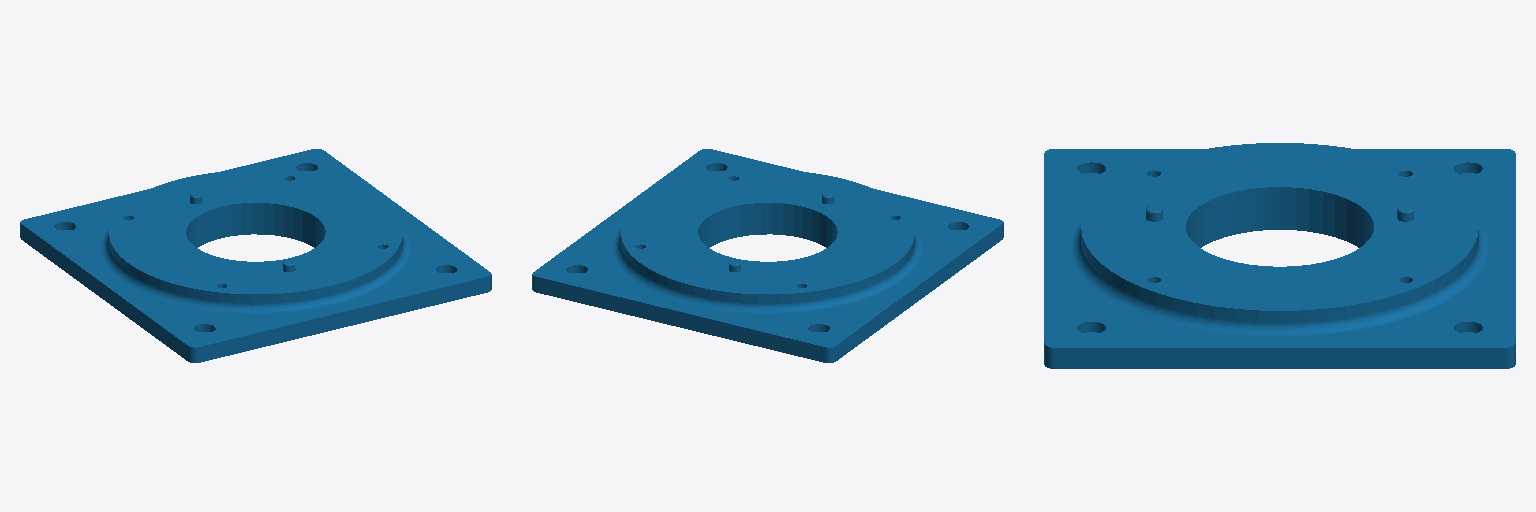
The robot description file, URDF, robot "chargepal_testbed":
<robot name="chargepal_testbed">
  
  
  
  
  
  
  
  
  
  
  
  
  
  
  <link name="world"><inertial><mass value="0.0" /><origin rpy="0 0 0" xyz="0 0 0" /><inertia ixx="0.0" ixy="0.0" ixz="0.0" iyy="0.0" iyz="0.0" izz="0.0" /></inertial></link>
  <joint name="world_to_table" type="fixed">
    <parent link="world" />
    <child link="table" />
    <origin rpy="0 0 3.14159" xyz="0 0 0" />
  </joint>
  <link name="table">
    <inertial>
      <mass value="100.0" />
      <origin rpy="0 0 0" xyz="0 0 0" />
      <inertia ixx="17.8180758727668" ixy="0.0" ixz="0.0" iyy="10.983703606516801" iyz="0.0" izz="17.769367892250003" />
    </inertial>
    <visual>
      <origin rpy="0 0 0" xyz="0 0 0" />
      <geometry>
        <mesh filename="package://chargepal_description/meshes/testbed/table.dae" />
      </geometry>
      <material name="vention_green">
        <color rgba="0.047058823529411764 0.5058823529411764 0.5411764705882353 1" />
      </material>
    </visual>
    <collision>
      <origin rpy="0.0 0.0 0.0" xyz="-0.405 -0.6075 -0.4068" />
      <geometry>
        <box size="0.81 1.215 0.8136" />
      </geometry>
    </collision>
  </link>
  <joint name="table_to_baseplate" type="fixed">
    <parent link="table" />
    <child link="base_plate" />
    <origin rpy="0 0 3.14159" xyz="-0.6975 -0.1575 0" />
  </joint>
  <link name="base_plate">
    <inertial>
      <mass value="2.0" />
      <origin rpy="0 0 0" xyz="0 0 0" />
      <inertia ixx="0.00852187159125" ixy="0.0" ixz="0.0" iyy="0.00852187159125" iyz="0.0" izz="0.01687499325" />
    </inertial>
    <visual>
      <origin rpy="0 0 0" xyz="0 0 0" />
      <geometry>
        <mesh filename="package://chargepal_description/meshes/testbed/base_plate_ur10e.dae" />
      </geometry>
      <material name="vention_blue">
        <color rgba="0.12549019607843137 0.47058823529411764 0.6666666666666666 1" />
      </material>
    </visual>
    <collision>
      <origin rpy="0.0 0.0 0.0" xyz="0.0 0.0 0.01125" />
      <geometry>
        <box size="0.225 0.225 0.0225" />
      </geometry>
    </collision>
  </link>
  <joint name="baseplate_to_arm" type="fixed">
    <parent link="base_plate" />
    <child link="arm_base" />
    <origin rpy="0 0 0" xyz="0 0 0.0225" />
  </joint>
  <link name="arm_base">
    <inertial>
      <mass value="0.0" />
      <origin rpy="0 0 0" xyz="0 0 0" />
      <inertia ixx="0.0" ixy="0.0" ixz="0.0" iyy="0.0" iyz="0.0" izz="0.0" />
    </inertial>
  </link>
  
  <gazebo reference="base_plate">
    <material>Gazebo/Blue</material>
  </gazebo>
  <gazebo reference="table">
    <material>Gazebo/Green</material>
  </gazebo>
  
  <joint name="testbed_to_ur10e" type="fixed">
    <parent link="arm_base" />
    <child link="base_link" />
    <origin rpy="0.0 0.0 -1.570795" xyz="0.0 0.0 0.0" />
  </joint>
  
  
  <transmission name="shoulder_pan_trans">
    <type>transmission_interface/SimpleTransmission</type>
    <joint name="shoulder_pan_joint">
      <hardwareInterface>hardware_interface/VelocityJointInterface</hardwareInterface>
    </joint>
    <actuator name="shoulder_pan_motor">
      <mechanicalReduction>1</mechanicalReduction>
    </actuator>
  </transmission>
  <transmission name="shoulder_lift_trans">
    <type>transmission_interface/SimpleTransmission</type>
    <joint name="shoulder_lift_joint">
      <hardwareInterface>hardware_interface/VelocityJointInterface</hardwareInterface>
    </joint>
    <actuator name="shoulder_lift_motor">
      <mechanicalReduction>1</mechanicalReduction>
    </actuator>
  </transmission>
  <transmission name="elbow_trans">
    <type>transmission_interface/SimpleTransmission</type>
    <joint name="elbow_joint">
      <hardwareInterface>hardware_interface/VelocityJointInterface</hardwareInterface>
    </joint>
    <actuator name="elbow_motor">
      <mechanicalReduction>1</mechanicalReduction>
    </actuator>
  </transmission>
  <transmission name="wrist_1_trans">
    <type>transmission_interface/SimpleTransmission</type>
    <joint name="wrist_1_joint">
      <hardwareInterface>hardware_interface/VelocityJointInterface</hardwareInterface>
    </joint>
    <actuator name="wrist_1_motor">
      <mechanicalReduction>1</mechanicalReduction>
    </actuator>
  </transmission>
  <transmission name="wrist_2_trans">
    <type>transmission_interface/SimpleTransmission</type>
    <joint name="wrist_2_joint">
      <hardwareInterface>hardware_interface/VelocityJointInterface</hardwareInterface>
    </joint>
    <actuator name="wrist_2_motor">
      <mechanicalReduction>1</mechanicalReduction>
    </actuator>
  </transmission>
  <transmission name="wrist_3_trans">
    <type>transmission_interface/SimpleTransmission</type>
    <joint name="wrist_3_joint">
      <hardwareInterface>hardware_interface/VelocityJointInterface</hardwareInterface>
    </joint>
    <actuator name="wrist_3_motor">
      <mechanicalReduction>1</mechanicalReduction>
    </actuator>
  </transmission>
  
  <link name="base_link"><inertial><mass value="0.0" /><origin rpy="0 0 0" xyz="0 0 0" /><inertia ixx="0.0" ixy="0.0" ixz="0.0" iyy="0.0" iyz="0.0" izz="0.0" /></inertial></link>
  <link name="base_link_inertia">
    <visual>
      <origin rpy="0 0 3.141592653589793" xyz="0 0 0" />
      <geometry>
        <mesh filename="package://ur_description/meshes/ur10e/visual/base.dae" />
      </geometry>
      <material name="LightGrey">
        <color rgba="0.7 0.7 0.7 1.0" />
      </material>
    </visual>
    <collision>
      <origin rpy="0 0 3.141592653589793" xyz="0 0 0" />
      <geometry>
        <mesh filename="package://ur_description/meshes/ur10e/collision/base.stl" />
      </geometry>
    </collision>
    <inertial>
      <mass value="4.0" />
      <origin rpy="0 0 0" xyz="0 0 0" />
      <inertia ixx="0.0061063308908" ixy="0.0" ixz="0.0" iyy="0.0061063308908" iyz="0.0" izz="0.01125" />
    </inertial>
  </link>
  <link name="shoulder_link">
    <visual>
      <origin rpy="0 0 3.141592653589793" xyz="0 0 0" />
      <geometry>
        <mesh filename="package://ur_description/meshes/ur10e/visual/shoulder.dae" />
      </geometry>
      <material name="LightGrey">
        <color rgba="0.7 0.7 0.7 1.0" />
      </material>
    </visual>
    <collision>
      <origin rpy="0 0 3.141592653589793" xyz="0 0 0" />
      <geometry>
        <mesh filename="package://ur_description/meshes/ur10e/collision/shoulder.stl" />
      </geometry>
    </collision>
    <inertial>
      <mass value="7.778" />
      <origin rpy="0 0 0" xyz="0 0 0" />
      <inertia ixx="0.03147431257693659" ixy="0.0" ixz="0.0" iyy="0.03147431257693659" iyz="0.0" izz="0.021875624999999996" />
    </inertial>
  </link>
  <link name="upper_arm_link">
    <visual>
      <origin rpy="1.5707963267948966 0 -1.5707963267948966" xyz="0 0 0.1762" />
      <geometry>
        <mesh filename="package://ur_description/meshes/ur10e/visual/upperarm.dae" />
      </geometry>
      <material name="LightGrey">
        <color rgba="0.7 0.7 0.7 1.0" />
      </material>
    </visual>
    <collision>
      <origin rpy="1.5707963267948966 0 -1.5707963267948966" xyz="0 0 0.1762" />
      <geometry>
        <mesh filename="package://ur_description/meshes/ur10e/collision/upperarm.stl" />
      </geometry>
    </collision>
    <inertial>
      <mass value="12.93" />
      <origin rpy="0 1.5707963267948966 0" xyz="-0.306 0.0 0.175" />
      <inertia ixx="0.42175380379841093" ixy="0.0" ixz="0.0" iyy="0.42175380379841093" iyz="0.0" izz="0.03636562499999999" />
    </inertial>
  </link>
  <link name="forearm_link">
    <visual>
      <origin rpy="1.5707963267948966 0 -1.5707963267948966" xyz="0 0 0.0393" />
      <geometry>
        <mesh filename="package://ur_description/meshes/ur10e/visual/forearm.dae" />
      </geometry>
      <material name="LightGrey">
        <color rgba="0.7 0.7 0.7 1.0" />
      </material>
    </visual>
    <collision>
      <origin rpy="1.5707963267948966 0 -1.5707963267948966" xyz="0 0 0.0393" />
      <geometry>
        <mesh filename="package://ur_description/meshes/ur10e/collision/forearm.stl" />
      </geometry>
    </collision>
    <inertial>
      <mass value="3.87" />
      <origin rpy="0 1.5707963267948966 0" xyz="-0.285775 0.0 0.0393" />
      <inertia ixx="0.11079302548902206" ixy="0.0" ixz="0.0" iyy="0.11079302548902206" iyz="0.0" izz="0.010884375" />
    </inertial>
  </link>
  <link name="wrist_1_link">
    <visual>
      
      <origin rpy="1.5707963267948966 0 0" xyz="0 0 -0.135" />
      <geometry>
        <mesh filename="package://ur_description/meshes/ur10e/visual/wrist1.dae" />
      </geometry>
      <material name="LightGrey">
        <color rgba="0.7 0.7 0.7 1.0" />
      </material>
    </visual>
    <collision>
      <origin rpy="1.5707963267948966 0 0" xyz="0 0 -0.135" />
      <geometry>
        <mesh filename="package://ur_description/meshes/ur10e/collision/wrist1.stl" />
      </geometry>
    </collision>
    <inertial>
      <mass value="1.96" />
      <origin rpy="0 0 0" xyz="0 0 0" />
      <inertia ixx="0.005108247956699999" ixy="0.0" ixz="0.0" iyy="0.005108247956699999" iyz="0.0" izz="0.005512499999999999" />
    </inertial>
  </link>
  <link name="wrist_2_link">
    <visual>
      <origin rpy="0 0 0" xyz="0 0 -0.12" />
      <geometry>
        <mesh filename="package://ur_description/meshes/ur10e/visual/wrist2.dae" />
      </geometry>
      <material name="LightGrey">
        <color rgba="0.7 0.7 0.7 1.0" />
      </material>
    </visual>
    <collision>
      <origin rpy="0 0 0" xyz="0 0 -0.12" />
      <geometry>
        <mesh filename="package://ur_description/meshes/ur10e/collision/wrist2.stl" />
      </geometry>
    </collision>
    <inertial>
      <mass value="1.96" />
      <origin rpy="0 0 0" xyz="0 0 0" />
      <inertia ixx="0.005108247956699999" ixy="0.0" ixz="0.0" iyy="0.005108247956699999" iyz="0.0" izz="0.005512499999999999" />
    </inertial>
  </link>
  <link name="wrist_3_link">
    <visual>
      <origin rpy="1.5707963267948966 0 0" xyz="0 0 -0.1168" />
      <geometry>
        <mesh filename="package://ur_description/meshes/ur10e/visual/wrist3.dae" />
      </geometry>
      <material name="LightGrey">
        <color rgba="0.7 0.7 0.7 1.0" />
      </material>
    </visual>
    <collision>
      <origin rpy="1.5707963267948966 0 0" xyz="0 0 -0.1168" />
      <geometry>
        <mesh filename="package://ur_description/meshes/ur10e/collision/wrist3.stl" />
      </geometry>
    </collision>
    <inertial>
      <mass value="0.202" />
      <origin rpy="0 0 0" xyz="0.0 0.0 -0.025" />
      <inertia ixx="0.00014434577559500002" ixy="0.0" ixz="0.0" iyy="0.00014434577559500002" iyz="0.0" izz="0.00020452500000000002" />
    </inertial>
  </link>
  
  <joint name="base_link-base_link_inertia" type="fixed">
    <parent link="base_link" />
    <child link="base_link_inertia" />
    
    <origin rpy="0 0 3.141592653589793" xyz="0 0 0" />
  </joint>
  <joint name="shoulder_pan_joint" type="revolute">
    <parent link="base_link_inertia" />
    <child link="shoulder_link" />
    <origin rpy="0 0 0" xyz="0 0 0.1807" />
    <axis xyz="0 0 1" />
    <limit effort="330.0" lower="-6.283185307179586" upper="6.283185307179586" velocity="2.0943951023931953" />
    <dynamics damping="0" friction="0" />
  </joint>
  <joint name="shoulder_lift_joint" type="revolute">
    <parent link="shoulder_link" />
    <child link="upper_arm_link" />
    <origin rpy="1.570796327 0 0" xyz="0 0 0" />
    <axis xyz="0 0 1" />
    <limit effort="330.0" lower="-6.283185307179586" upper="6.283185307179586" velocity="2.0943951023931953" />
    <dynamics damping="0" friction="0" />
  </joint>
  <joint name="elbow_joint" type="revolute">
    <parent link="upper_arm_link" />
    <child link="forearm_link" />
    <origin rpy="0 0 0" xyz="-0.6127 0 0" />
    <axis xyz="0 0 1" />
    <limit effort="150.0" lower="-3.141592653589793" upper="3.141592653589793" velocity="3.141592653589793" />
    <dynamics damping="0" friction="0" />
  </joint>
  <joint name="wrist_1_joint" type="revolute">
    <parent link="forearm_link" />
    <child link="wrist_1_link" />
    <origin rpy="0 0 0" xyz="-0.57155 0 0.17415" />
    <axis xyz="0 0 1" />
    <limit effort="56.0" lower="-6.283185307179586" upper="6.283185307179586" velocity="3.141592653589793" />
    <dynamics damping="0" friction="0" />
  </joint>
  <joint name="wrist_2_joint" type="revolute">
    <parent link="wrist_1_link" />
    <child link="wrist_2_link" />
    <origin rpy="1.570796327 0 0" xyz="0 -0.11985 -2.458164590756244e-11" />
    <axis xyz="0 0 1" />
    <limit effort="56.0" lower="-6.283185307179586" upper="6.283185307179586" velocity="3.141592653589793" />
    <dynamics damping="0" friction="0" />
  </joint>
  <joint name="wrist_3_joint" type="revolute">
    <parent link="wrist_2_link" />
    <child link="wrist_3_link" />
    <origin rpy="1.570796326589793 3.141592653589793 3.141592653589793" xyz="0 0.11655 -2.390480459346185e-11" />
    <axis xyz="0 0 1" />
    <limit effort="56.0" lower="-6.283185307179586" upper="6.283185307179586" velocity="3.141592653589793" />
    <dynamics damping="0" friction="0" />
  </joint>
  
  <link name="base"><inertial><mass value="0.0" /><origin rpy="0 0 0" xyz="0 0 0" /><inertia ixx="0.0" ixy="0.0" ixz="0.0" iyy="0.0" iyz="0.0" izz="0.0" /></inertial></link>
  <joint name="base_link-base_fixed_joint" type="fixed">
    
    <origin rpy="0 0 3.141592653589793" xyz="0 0 0" />
    <parent link="base_link" />
    <child link="base" />
  </joint>
  
  <link name="flange"><inertial><mass value="0.0" /><origin rpy="0 0 0" xyz="0 0 0" /><inertia ixx="0.0" ixy="0.0" ixz="0.0" iyy="0.0" iyz="0.0" izz="0.0" /></inertial></link>
  <joint name="wrist_3-flange" type="fixed">
    <parent link="wrist_3_link" />
    <child link="flange" />
    <origin rpy="0 -1.5707963267948966 -1.5707963267948966" xyz="0 0 0" />
  </joint>
  
  <link name="tool0"><inertial><mass value="0.0" /><origin rpy="0 0 0" xyz="0 0 0" /><inertia ixx="0.0" ixy="0.0" ixz="0.0" iyy="0.0" iyz="0.0" izz="0.0" /></inertial></link>
  <joint name="flange-tool0" type="fixed">
    
    <origin rpy="1.5707963267948966 0 1.5707963267948966" xyz="0 0 0" />
    <parent link="flange" />
    <child link="tool0" />
  </joint>
  
  <gazebo reference="shoulder_link">
    <selfCollide>true</selfCollide>
  </gazebo>
  <gazebo reference="upper_arm_link">
    <selfCollide>true</selfCollide>
  </gazebo>
  <gazebo reference="forearm_link">
    <selfCollide>true</selfCollide>
  </gazebo>
  <gazebo reference="wrist_1_link">
    <selfCollide>true</selfCollide>
  </gazebo>
  <gazebo reference="wrist_3_link">
    <selfCollide>true</selfCollide>
  </gazebo>
  <gazebo reference="wrist_2_link">
    <selfCollide>true</selfCollide>
  </gazebo>
  <gazebo reference="ee_link">
    <selfCollide>true</selfCollide>
  </gazebo>
  <link name="ft_sensor_mounting">
    <inertial>
      <origin rpy="0 0 0" xyz="-9.4473E-05 0.00063177 0.010132" />
      <mass value="0.14931" />
      <inertia ixx="4.8806E-05" ixy="3.2223E-08" ixz="-1.0415E-07" iyy="5.5473E-05" iyz="1.3709E-07" izz="8.9696E-05" />
    </inertial>
    <visual>
      <origin rpy="0 0 0" xyz="0 0 0" />
      <geometry>
        <mesh filename="package://rokubimini_description/meshes/BFT_SENS_M8/mounting.STL" />
      </geometry>
      <material name="">
        <color rgba="0.6902 0.61176 0.52941 1" />
      </material>
    </visual>
    <collision>
      <origin rpy="0 0 0" xyz="0 0 0.011" />
      <geometry>
        <cylinder length="0.028" radius="0.035" />
      </geometry>
    </collision>
    <collision>
      <origin rpy="1.57 0 0" xyz="0 0.051 0.0115" />
      <geometry>
        <cylinder length="0.032" radius="0.0065" />
      </geometry>
    </collision>
    <collision>
      <origin rpy="0 0 0" xyz="0 0 0.03" />
      <geometry>
        <cylinder length="0.01" radius="0.0315" />
      </geometry>
    </collision>
  </link>
  <link name="ft_sensor_imu">
    <inertial>
      <origin rpy="0 0 0" xyz="-7.28164825396643E-05 1.54951151759942E-05 -0.00279059266096084" />
      <mass value="0.00841533584597687" />
      <inertia ixx="4.36835040253875E-07" ixy="-6.98609475825204E-11" ixz="-6.08397676352913E-15" iyy="4.41035649008913E-07" iyz="1.1033148379698E-11" izz="8.74962095262403E-07" />
    </inertial>
  </link>
  <joint name="mounting_to_imu" type="fixed">
    <origin rpy="0 0 0" xyz="0 0 0.0093" />
    <parent link="ft_sensor_mounting" />
    <child link="ft_sensor_imu" />
    <axis xyz="0 0 0" />
  </joint>
  <link name="ft_sensor_wrench">
    <inertial>
      <origin rpy="0 0 0" xyz="-1.9753E-07 0.00017443 -0.0070758" />
      <mass value="0.081117" />
      <inertia ixx="2.1858E-05" ixy="-1.9153E-12" ixz="3.7592E-11" iyy="2.2215E-05" iyz="-4.9937E-08" izz="4.0048E-05" />
    </inertial>
  </link>
  <joint name="mounting_to_wrench" type="fixed">
    <origin rpy="0 0 0" xyz="0 0 0.035" />
    <parent link="ft_sensor_mounting" />
    <child link="ft_sensor_wrench" />
    <axis xyz="0 0 0" />
  </joint>
  <link name="ft_sensor_mech1">
    <inertial><mass value="0.0" /><origin rpy="0 0 0" xyz="0 0 0" /><inertia ixx="0.0" ixy="0.0" ixz="0.0" iyy="0.0" iyz="0.0" izz="0.0" /></inertial></link>
  <joint name="mounting_to_mech1" type="fixed">
    <origin rpy="1.5625 0 -1.5708" xyz="-0.032879 0 0.0105" />
    <parent link="ft_sensor_mounting" />
    <child link="ft_sensor_mech1" />
    <axis xyz="0 0 0" />
  </joint>
  <link name="ft_sensor_mech2">
    <inertial><mass value="0.0" /><origin rpy="0 0 0" xyz="0 0 0" /><inertia ixx="0.0" ixy="0.0" ixz="0.0" iyy="0.0" iyz="0.0" izz="0.0" /></inertial></link>
  <joint name="mounting_to_mech2" type="fixed">
    <origin rpy="1.5708 0 0" xyz="0 -0.032879 0.0105" />
    <parent link="ft_sensor_mounting" />
    <child link="ft_sensor_mech2" />
    <axis xyz="0 0 0" />
  </joint>
  <link name="ft_sensor_mech3">
    <inertial><mass value="0.0" /><origin rpy="0 0 0" xyz="0 0 0" /><inertia ixx="0.0" ixy="0.0" ixz="0.0" iyy="0.0" iyz="0.0" izz="0.0" /></inertial></link>
  <joint name="mounting_to_mech3" type="fixed">
    <origin rpy="1.5708 0 1.5708" xyz="0.032879 0 0.0105" />
    <parent link="ft_sensor_mounting" />
    <child link="ft_sensor_mech3" />
    <axis xyz="0 0 0" />
  </joint>
  <joint name="ur_to_sensor" type="fixed">
    <parent link="tool0" />
    <child link="ft_sensor_mounting" />
    <origin rpy="0.0 0.0 0.0" xyz="0.0 0.0 0.0" />
  </joint>
  
  
  
  
  
  
  
  
  
  <joint name="handle_joint" type="fixed">
    <parent link="ft_sensor_wrench" />
    <child link="plug_mounting" />
    <origin rpy="0 0 0" xyz="0.0 0.0 0.0" />
  </joint>
  <link name="plug_mounting">
    <visual>
      <origin rpy="1.5707963267948966 0 1.5707963267948966" xyz="0 0 0" />
      <geometry>
        <mesh filename="package://chargepal_tools/plugs/meshes/visual/ccs_type2.obj" />
      </geometry>
      <material name="field_green">
        <color rgba="0.3686274509803922 0.7450980392156863 0.49019607843137253 1" />
      </material>
    </visual>
    <collision>
      <origin rpy="1.5707963267948966 0 1.5707963267948966" xyz="0 0 0" />
      <geometry>
        <mesh filename="package://chargepal_tools/plugs/meshes/collision/ccs_type2_handle.obj" />
      </geometry>
    </collision>
    <collision>
      <origin rpy="1.5707963267948966 0 1.5707963267948966" xyz="0 0 0.085" />
      <geometry>
        <mesh filename="package://chargepal_tools/plugs/meshes/collision/ccs_type2_tip.obj" scale="1.0 1.0 1.0" />
      </geometry>
    </collision>
    <inertial>
      <mass value="0.35" />
      <origin rpy="0 0 0" xyz="0 0 0" />
      <inertia ixx="0.00029755092264625003" ixy="0.0" ixz="0.0" iyy="0.00029755092264625003" iyz="0.0" izz="0.00017364375" />
    </inertial>
  </link>
  <joint name="plug_joint" type="fixed">
    <parent link="plug_mounting" />
    <child link="plug_tip" />
    <axis xyz="0 0 0" />
    <origin rpy="0 0 0" xyz="0 0 0.085" />
  </joint>
  <link name="plug_tip">
    <inertial>
      <mass value="0.0" />
      <origin rpy="0 0 0" xyz="0 0 0" />
      <inertia ixx="0.0" ixy="0.0" ixz="0.0" iyy="0.0" iyz="0.0" izz="0.0" />
    </inertial>
  </link>
  <gazebo reference="plug_mounting">
    <material>Gazebo/Blue</material>
  </gazebo>
  <gazebo>
    <plugin filename="libgazebo_ros_control.so" name="gazebo_ros_control">
      <controlPeriod>0.001</controlPeriod>
      <legacyModeNS>false</legacyModeNS>
    </plugin>
  </gazebo>
</robot>

--- What the picture shows (computed from the rendered views, not written in the file) ---
Views: 3 orthographic renders of the robot side by side, from view 1: azimuth 30°, elevation 25°; view 2: azimuth 150°, elevation 25°; view 3: azimuth 270°, elevation 25°.
Model chargepal_testbed with 23 links and 22 joints (6 revolute, 16 fixed), rooted at world, posed every joint at zero.
Links seen in each view (by area): view 1: base_plate; view 2: base_plate; view 3: base_plate.
Link boxes in pixels (bbox=[...]): base_plate: bbox=[20, 149, 491, 362]; base_plate: bbox=[532, 149, 1003, 362]; base_plate: bbox=[1044, 143, 1515, 368].
Bounding box of the posed robot: 0.225 × 0.225 × 0.0275 m (x, y, z).
1 mesh visuals loaded from 11 distinct referenced files (1 Collada DAE); not drawn: 10 (reference not matched to a file when rendering).